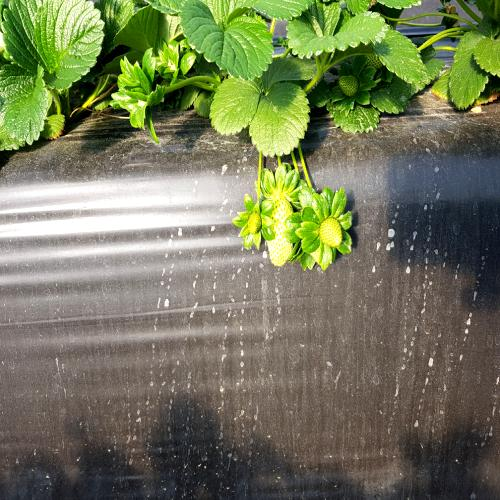unripe: (315, 206, 349, 258), (266, 227, 295, 279)
